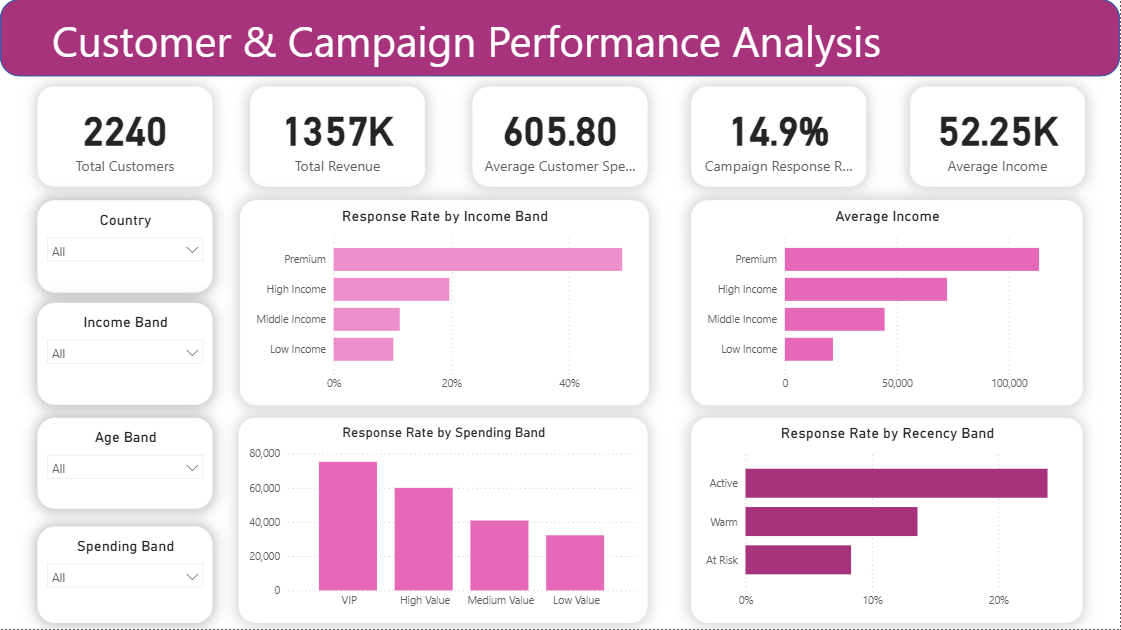

Layout of this report page (visuals, bound fields, positions):
{"tool":"powerbi","page":{"name":"Customer & Campaign Analysis","canvas":[1280,720],"ordinal":0},"visuals":[{"type":"shape","box":[0,0,1280,88.6],"z":0},{"type":"textbox","box":[54.3,10,1225.7,78.6],"z":1000},{"type":"card","fields":{"Values":["marketing_data (2).Total Customers"]},"box":[42.9,100,200,114.3],"z":2000},{"type":"card","fields":{"Values":["marketing_data (2).Total Revenue"]},"box":[285.7,100,200,114.3],"z":3000},{"type":"card","fields":{"Values":["marketing_data (2).Average Income"]},"box":[1040,100,200,114.3],"z":4000},{"type":"card","fields":{"Values":["marketing_data (2).Campaign Response Rate"]},"box":[790,100,200,114.3],"z":5000},{"type":"card","fields":{"Values":["marketing_data (2).Average Customer Spend"]},"box":[540,100,200,114.3],"z":6000},{"type":"clusteredBarChart","title":"Response Rate by Income Band","fields":{"Category":["marketing_data (2).Income Band"],"Y":["marketing_data (2).Campaign Response Rate"]},"box":[274.3,230,467.1,234.3],"z":7000},{"type":"clusteredBarChart","title":"Average Income","fields":{"Y":["marketing_data (2).Average Income"],"Category":["marketing_data (2).Income Band"]},"box":[790,230,447.1,234.3],"z":8000},{"type":"clusteredColumnChart","title":"Response Rate by Spending Band","fields":{"Category":["marketing_data (2).Spending Band"],"Y":["marketing_data (2).Average Income"]},"box":[272.9,478.6,467.1,234.3],"z":9000},{"type":"clusteredBarChart","title":"Response Rate by Recency Band","fields":{"Category":["marketing_data (2).Recency Band"],"Y":["marketing_data (2).Campaign Response Rate"]},"box":[790,478.6,447.1,234.3],"z":10000},{"type":"slicer","title":"Country","fields":{"Values":["marketing_data (2).Country"]},"box":[42.9,230,200,105.7],"z":11000},{"type":"slicer","title":"Income Band","fields":{"Values":["marketing_data (2).Income Band"]},"box":[42.9,347.1,200,117.1],"z":12000},{"type":"slicer","title":"Spending Band","fields":{"Values":["marketing_data (2).Spending Band"]},"box":[42.9,602.9,200,110],"z":13000},{"type":"slicer","title":"Age Band","fields":{"Values":["marketing_data (2).Age Band "]},"box":[42.9,478.6,200,104.3],"z":14000}]}

Visuals, with their boxes in screenshot pixels (x1, y1, x2, y2), scaled from the page's 1280x720 canvas onto the 1121x630 screenshot:
shape: Rect(0, 0, 1120, 78)
textbox: Rect(48, 9, 1120, 78)
card - marketing_data (2).Total Customers: Rect(38, 88, 213, 188)
card - marketing_data (2).Total Revenue: Rect(250, 88, 425, 188)
card - marketing_data (2).Average Income: Rect(911, 88, 1086, 188)
card - marketing_data (2).Campaign Response Rate: Rect(692, 88, 867, 188)
card - marketing_data (2).Average Customer Spend: Rect(473, 88, 648, 188)
"Response Rate by Income Band" clusteredBarChart: Rect(240, 201, 649, 406)
"Average Income" clusteredBarChart: Rect(692, 201, 1083, 406)
"Response Rate by Spending Band" clusteredColumnChart: Rect(239, 419, 648, 624)
"Response Rate by Recency Band" clusteredBarChart: Rect(692, 419, 1083, 624)
"Country" slicer: Rect(38, 201, 213, 294)
"Income Band" slicer: Rect(38, 304, 213, 406)
"Spending Band" slicer: Rect(38, 528, 213, 624)
"Age Band" slicer: Rect(38, 419, 213, 510)
